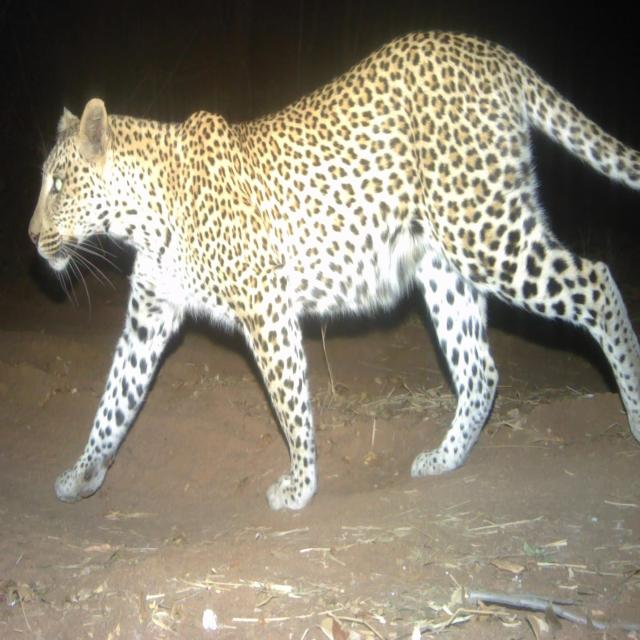Leopard: (35, 5, 640, 524)
